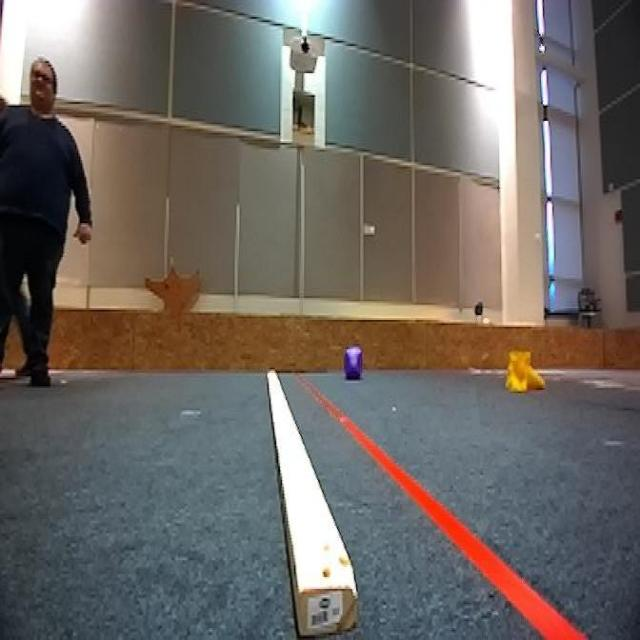frc_cone: (503, 356, 544, 396)
frc_cube: (342, 346, 367, 383)
